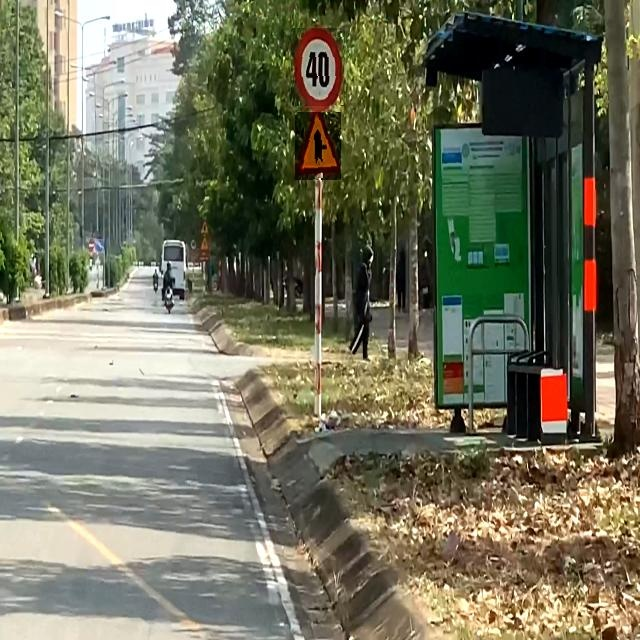bien_cam: (292, 28, 346, 106), (296, 112, 342, 180), (90, 238, 98, 253), (97, 239, 104, 253)
